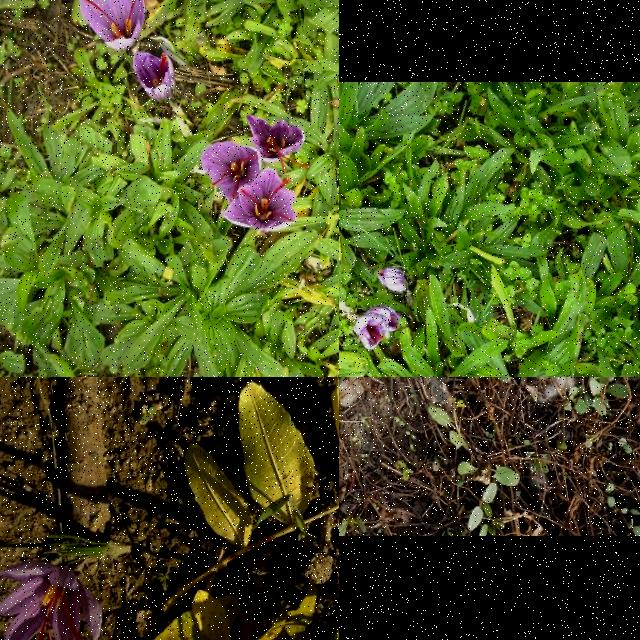flower: (0, 566, 101, 640), (222, 168, 298, 230), (200, 141, 262, 203), (246, 114, 310, 172), (80, 0, 145, 49), (132, 52, 176, 98), (379, 269, 407, 295)
overlap: (356, 308, 402, 350)
